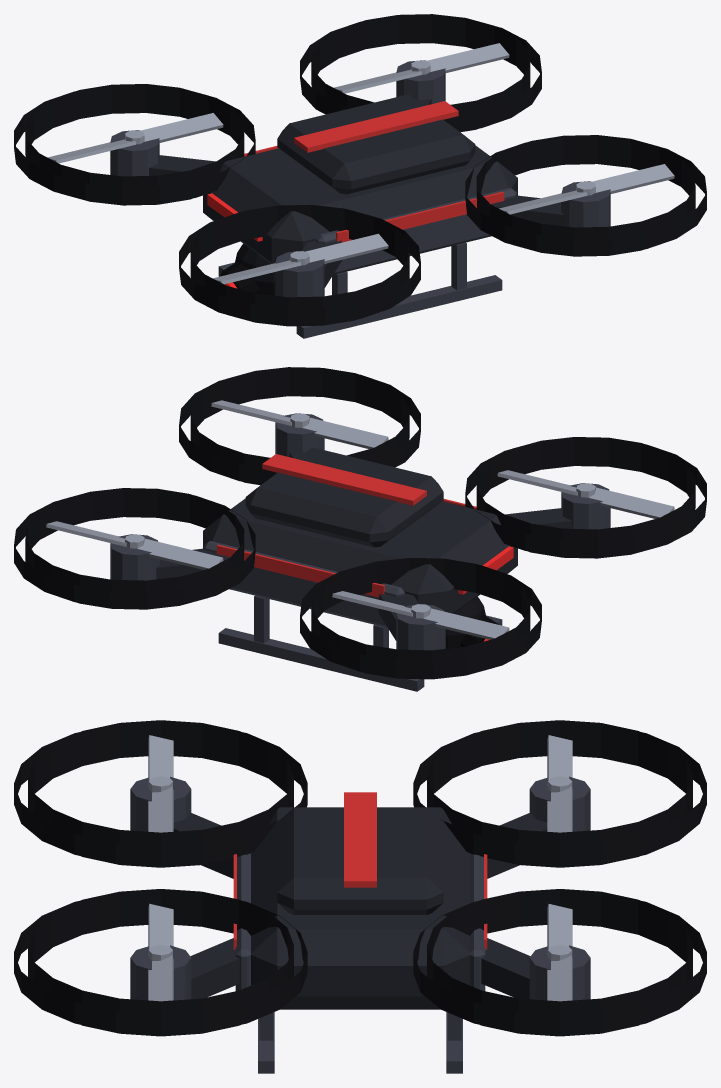
Rendered from drone.glb.
The picture shows the model from 3 angles, top to bottom: view 1: azimuth 30°, elevation 25°; view 2: azimuth 150°, elevation 25°; view 3: azimuth 270°, elevation 25°; orthographic projection. The views are drawn at different scales.
Parts seen in each view (by area): view 1: Drone, Rotor0, Rotor2, Rotor1, Rotor3; view 2: Drone, Rotor0, Rotor1, Rotor2, Rotor3; view 3: Drone, Rotor2, Rotor0, Rotor3, Rotor1.
Part boxes in pixels (left/top/right/bottom): Drone: left=14, top=14, right=706, bottom=338; Rotor0: left=334, top=43, right=509, bottom=93; Rotor2: left=48, top=113, right=223, bottom=163; Rotor1: left=499, top=164, right=674, bottom=214; Rotor3: left=213, top=233, right=388, bottom=284; Drone: left=14, top=367, right=706, bottom=691; Rotor0: left=46, top=521, right=223, bottom=569; Rotor1: left=211, top=400, right=388, bottom=448; Rotor2: left=332, top=591, right=509, bottom=639; Rotor3: left=497, top=470, right=674, bottom=518; Drone: left=14, top=720, right=706, bottom=1073; Rotor2: left=547, top=735, right=572, bottom=832; Rotor0: left=547, top=904, right=572, bottom=1001; Rotor3: left=148, top=735, right=173, bottom=832; Rotor1: left=148, top=903, right=173, bottom=1001.
Size of the model in its own units: 1.25 by 0.3735 by 1.25.
